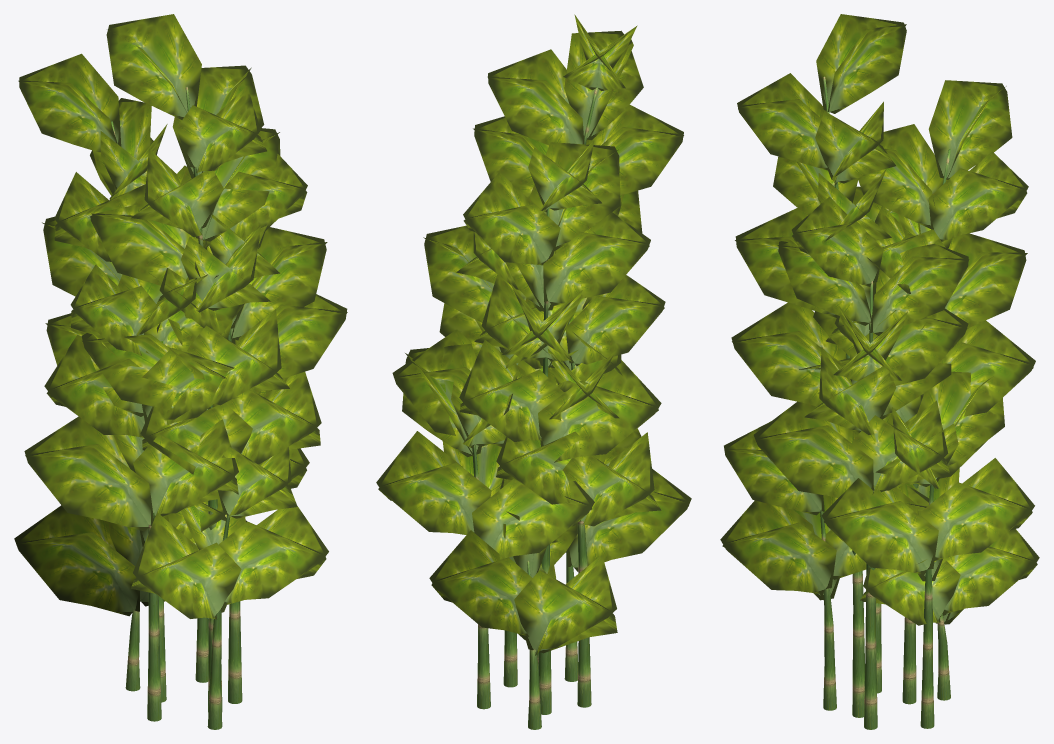
The model's file is Bamboo.fbx.
3 views of the same model, side by side, from view 1: azimuth 30°, elevation 25°; view 2: azimuth 150°, elevation 25°; view 3: azimuth 270°, elevation 25° (orthographic). The views are drawn at different scales.
Parts seen in each view (by area): view 1: Tree_1, Tree_0; view 2: Tree_1, Tree_0; view 3: Tree_1, Tree_0.
Boxes of the visible parts, x1,y1,x2,y2 form: Tree_1: (14, 14, 347, 619); Tree_0: (111, 86, 242, 729); Tree_1: (376, 14, 691, 655); Tree_0: (472, 87, 597, 729); Tree_1: (720, 14, 1039, 625); Tree_0: (820, 76, 950, 729).
Size of the model in its own units: 174 by 431 by 187.
Materials: 2 (2 with a texture image).
